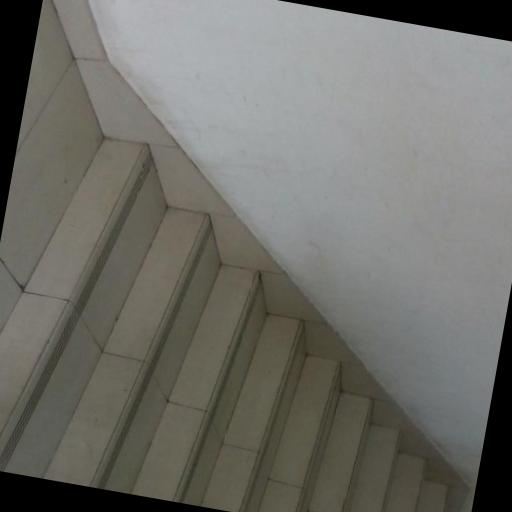stairs: (0, 140, 445, 511)
